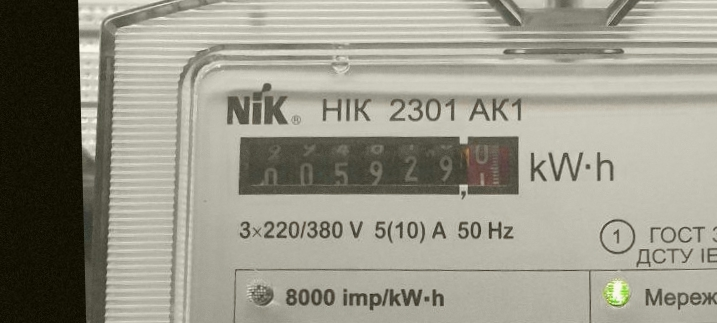0: (296, 159, 316, 187), (259, 162, 281, 185), (472, 141, 492, 165)
2: (400, 151, 420, 185)
5: (331, 158, 350, 186)
9: (364, 156, 386, 187), (436, 151, 456, 184), (264, 142, 282, 160)
screen: (231, 124, 527, 210)
